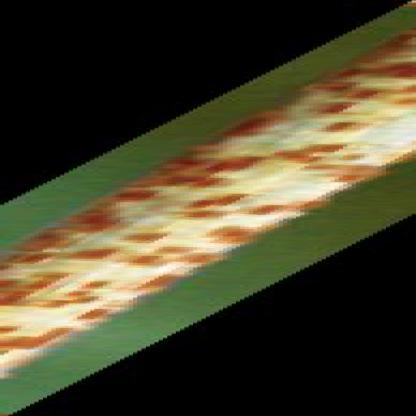wheat Stem Rust: (116, 189, 298, 233), (189, 139, 350, 182), (23, 232, 205, 269), (299, 74, 415, 131), (0, 275, 146, 304), (0, 314, 63, 346)
